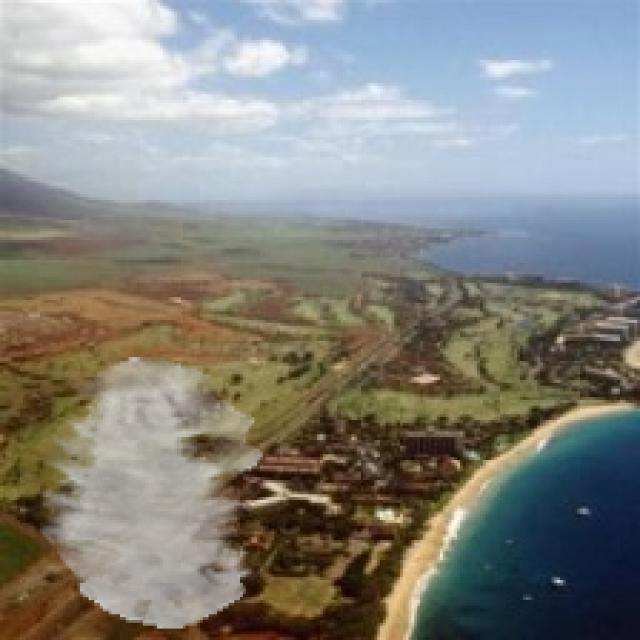smoke: (37, 357, 263, 629)
